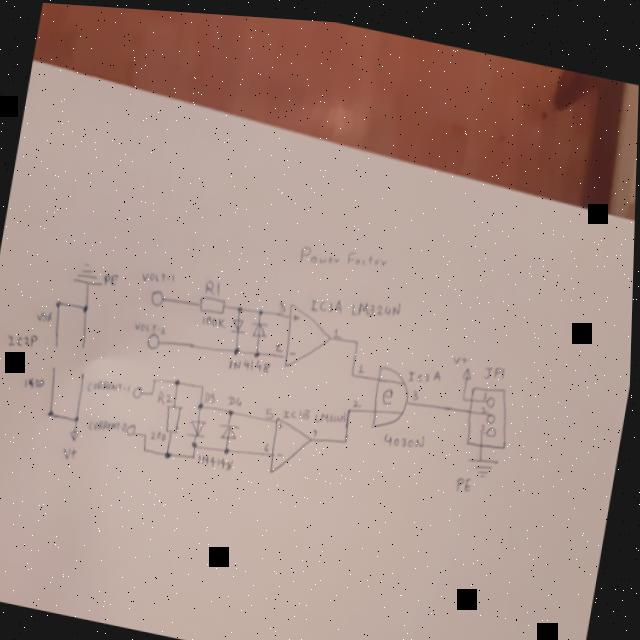diode: (218, 415, 243, 442), (188, 413, 210, 438), (230, 310, 250, 333), (252, 314, 270, 336)
ground: (466, 444, 502, 474), (72, 258, 105, 286)
junction: (253, 344, 264, 355), (73, 411, 83, 423), (165, 444, 174, 457), (47, 406, 57, 417), (191, 435, 201, 446), (55, 296, 64, 308), (233, 340, 242, 352), (82, 301, 91, 312), (236, 299, 245, 310), (198, 396, 206, 408), (174, 374, 183, 384), (257, 302, 265, 312), (347, 399, 355, 409), (354, 330, 361, 340), (461, 387, 469, 395), (350, 363, 357, 372), (343, 431, 350, 439), (150, 386, 157, 394), (201, 378, 207, 387), (193, 449, 198, 458), (153, 373, 159, 380), (144, 429, 150, 436), (225, 443, 231, 449), (230, 404, 235, 411), (144, 444, 149, 450)
resistor: (164, 398, 185, 433), (199, 289, 228, 312)
source: (70, 425, 82, 441), (462, 359, 474, 374)
terminal: (462, 372, 519, 448), (150, 283, 167, 305), (146, 328, 163, 348), (126, 418, 139, 436), (132, 381, 145, 397), (54, 339, 62, 350), (53, 363, 59, 373), (81, 369, 87, 379), (81, 337, 87, 346)
text: (298, 232, 390, 275), (350, 286, 403, 321), (87, 371, 133, 400), (384, 422, 428, 446), (89, 410, 130, 434), (229, 350, 273, 372), (408, 356, 444, 382), (6, 327, 41, 351), (197, 447, 237, 468), (314, 399, 349, 423), (141, 262, 177, 285), (309, 288, 346, 309), (133, 315, 170, 336), (282, 398, 314, 418), (484, 353, 508, 376), (201, 309, 230, 328), (24, 371, 48, 391), (455, 466, 476, 487), (204, 273, 223, 292), (156, 386, 177, 403), (62, 442, 81, 460), (102, 267, 120, 286), (36, 306, 55, 323), (452, 344, 471, 361), (227, 389, 246, 405), (204, 386, 220, 401), (152, 425, 169, 439), (411, 380, 423, 396), (356, 355, 368, 371), (274, 336, 287, 350), (351, 391, 364, 405), (265, 401, 277, 416), (277, 295, 289, 310), (312, 421, 322, 436), (292, 307, 302, 318), (264, 436, 273, 448), (333, 320, 340, 334), (278, 445, 287, 455), (279, 416, 287, 427), (289, 344, 298, 352)
